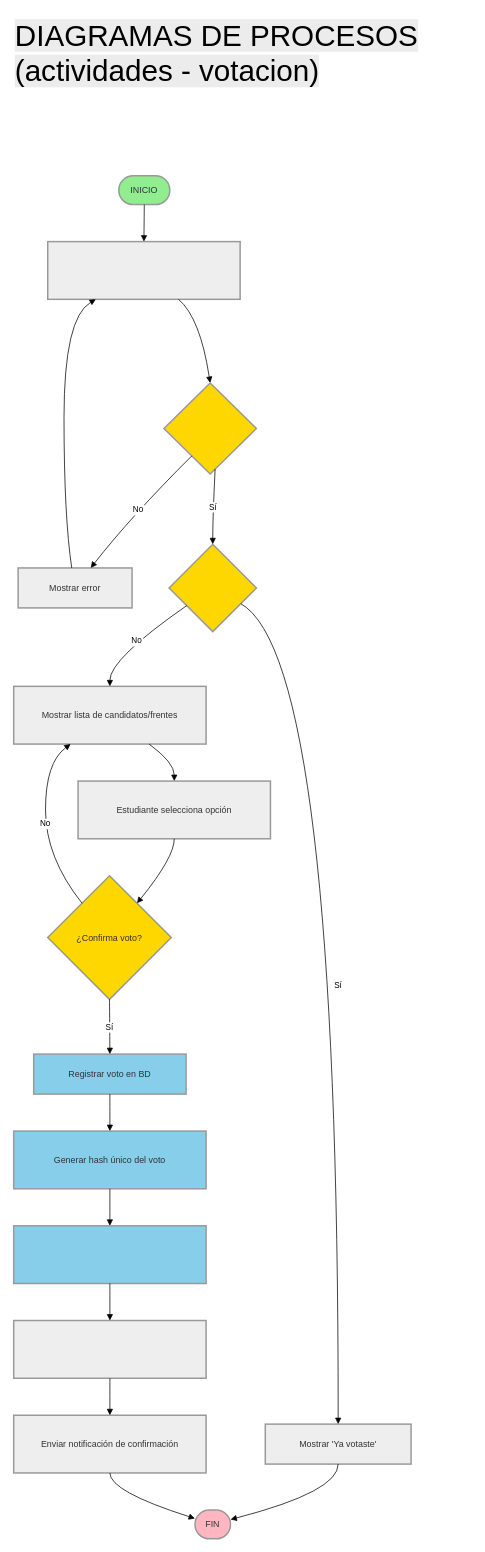
The diagram is 485 pixels wide and 1552 high, and some of its shapes have lost their labels. Each missing label, with the box of its shape:
Almacenar hash en auditoría: (13, 1225, 206, 1284)
Autenticación válida?: (163, 382, 257, 474)
Estudiante ingresa al sistema: (47, 240, 240, 300)
Mostrar comprobante hash al estudiante: (13, 1319, 206, 1379)
¿Ya votó?: (168, 543, 257, 632)
